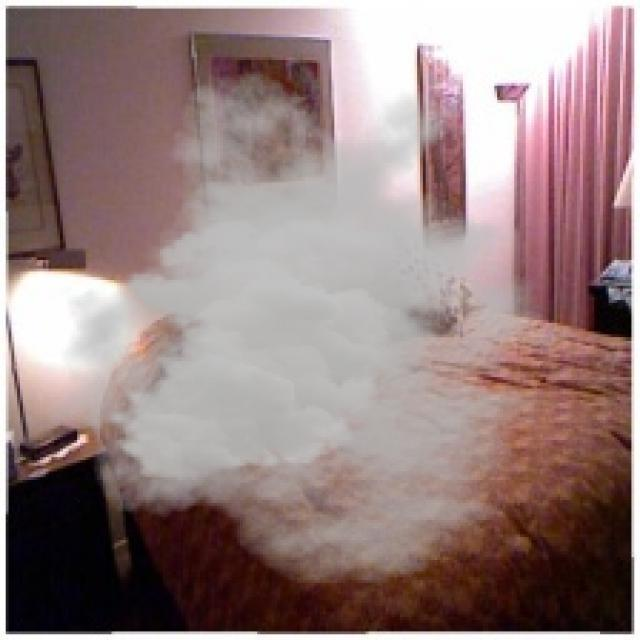Smoke: (45, 69, 600, 586)
